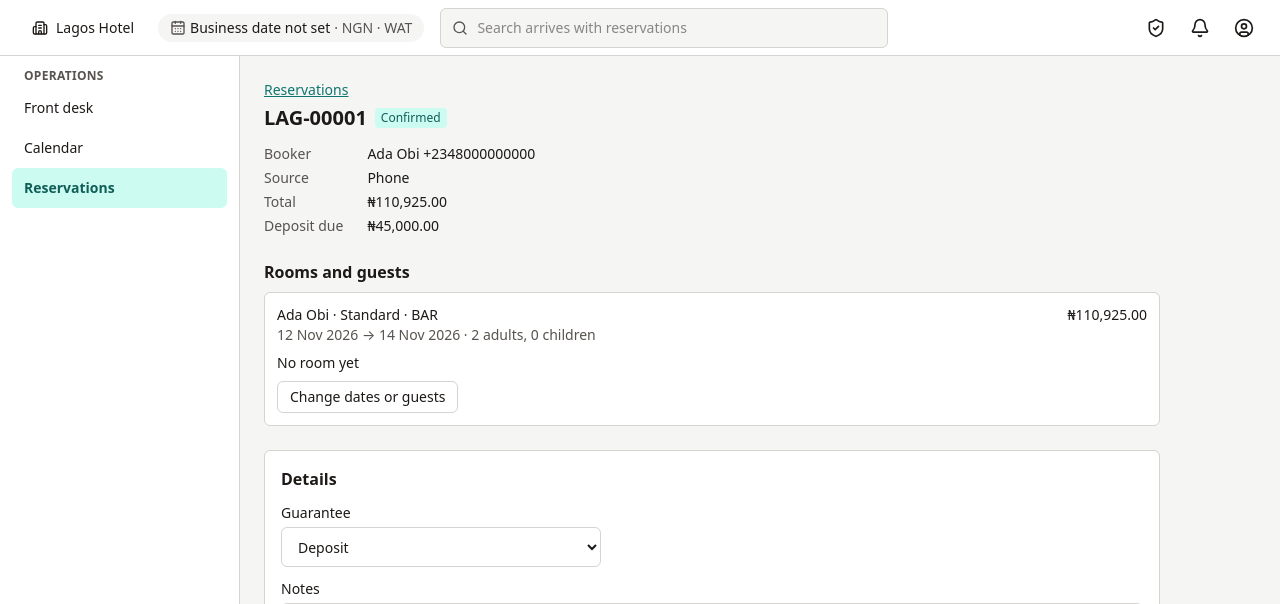
Test case: Reservation detail › changes the dates through a new quote and shows the difference
The width and height of the screenshot is (1280, 604).
Step 1. Click the button "Change dates or guests" → (368, 397), box [277, 381, 458, 413]
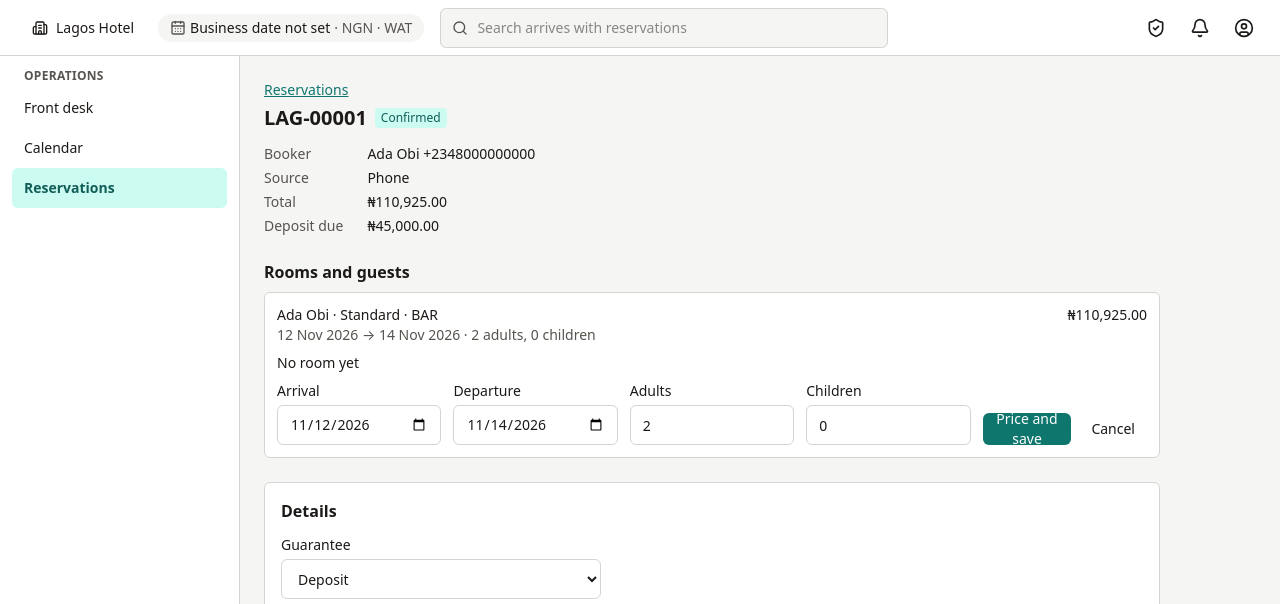
Step 2. Type "2026-11-15" into the date field labelled "Departure" → (536, 425), box [453, 405, 618, 445]
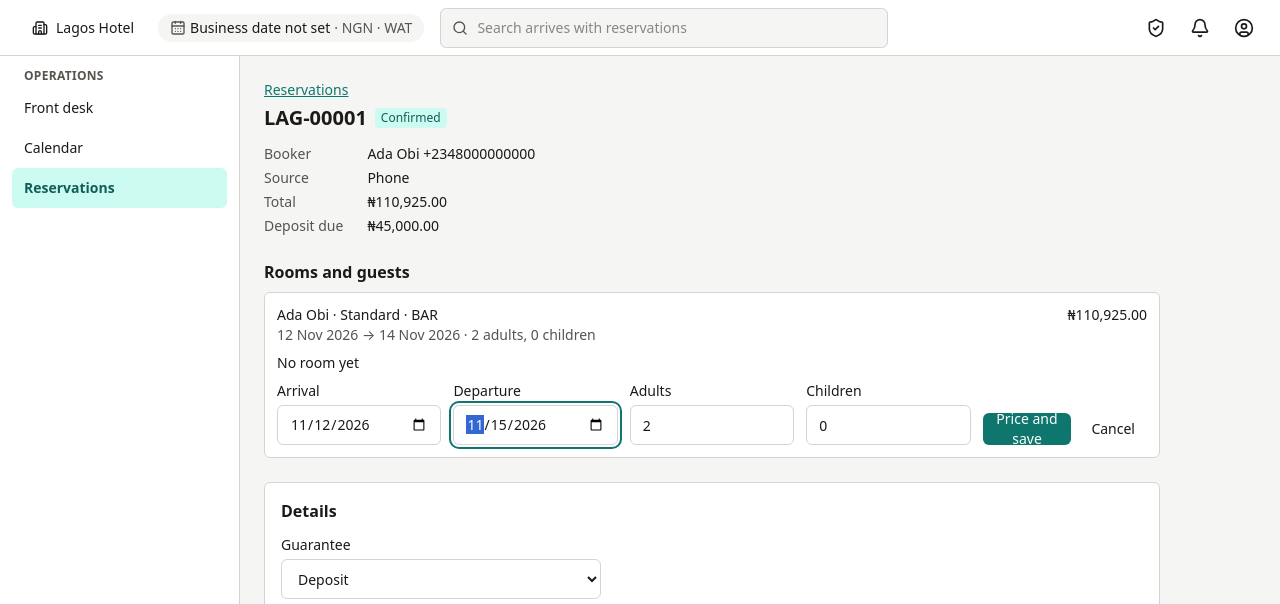
Step 3. Click the button "Price and save" → (1027, 429), box [983, 413, 1071, 445]
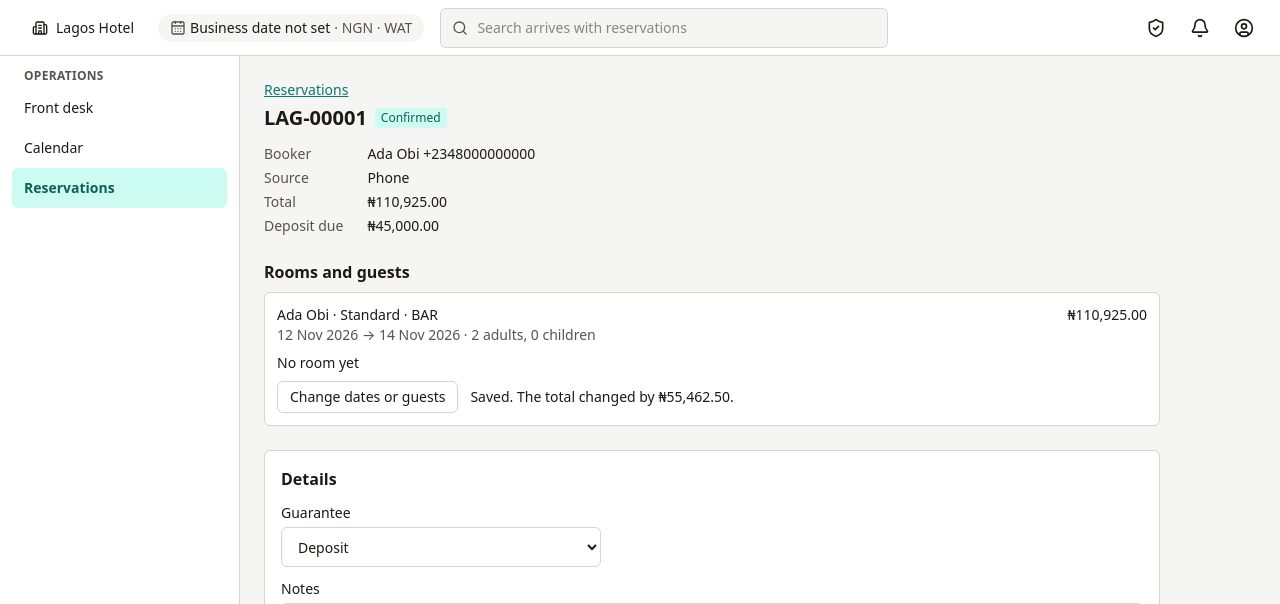
Result: the text "Saved. The total changed by ₦55,462.50." is shown at [470, 387, 734, 407]
